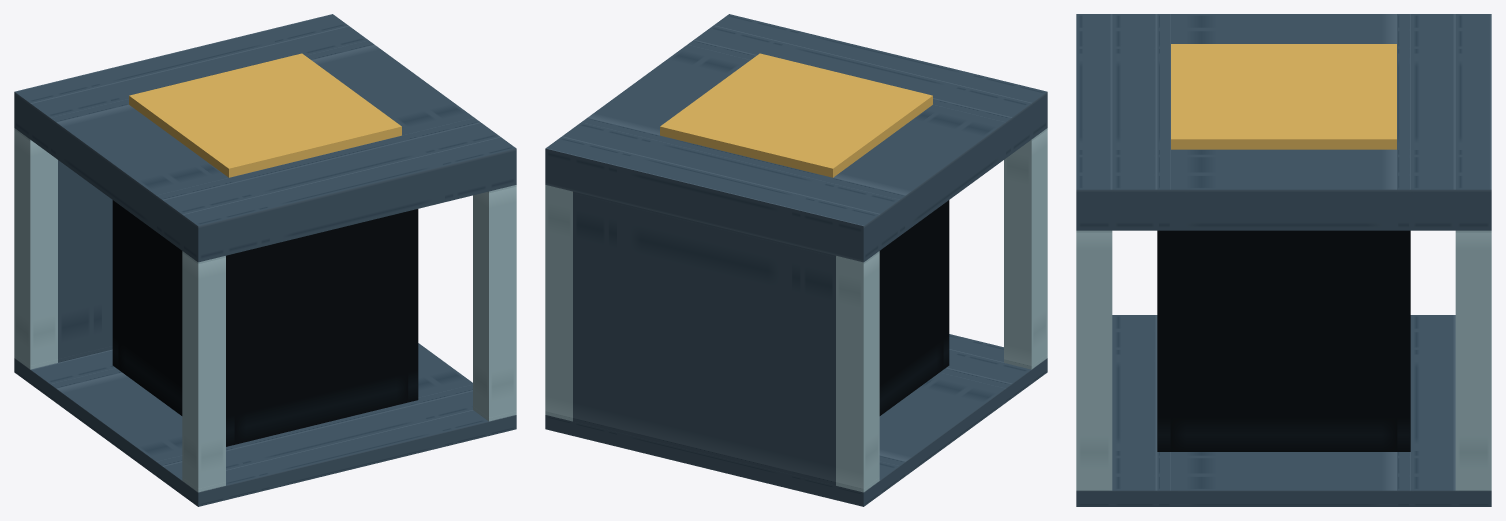
File: sc_factory_three.obj
3 renders of one model, left to right at view 1: azimuth 30°, elevation 25°; view 2: azimuth 150°, elevation 25°; view 3: azimuth 270°, elevation 25°, orthographic. The views are drawn at different scales.
Bounding box in the file's own units: 18.4 × 16 × 18.4.
1 material, 1 textured.
